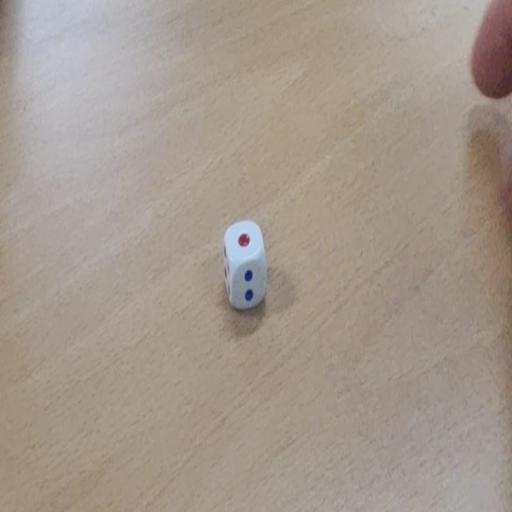dice_1: (222, 219, 268, 315)
